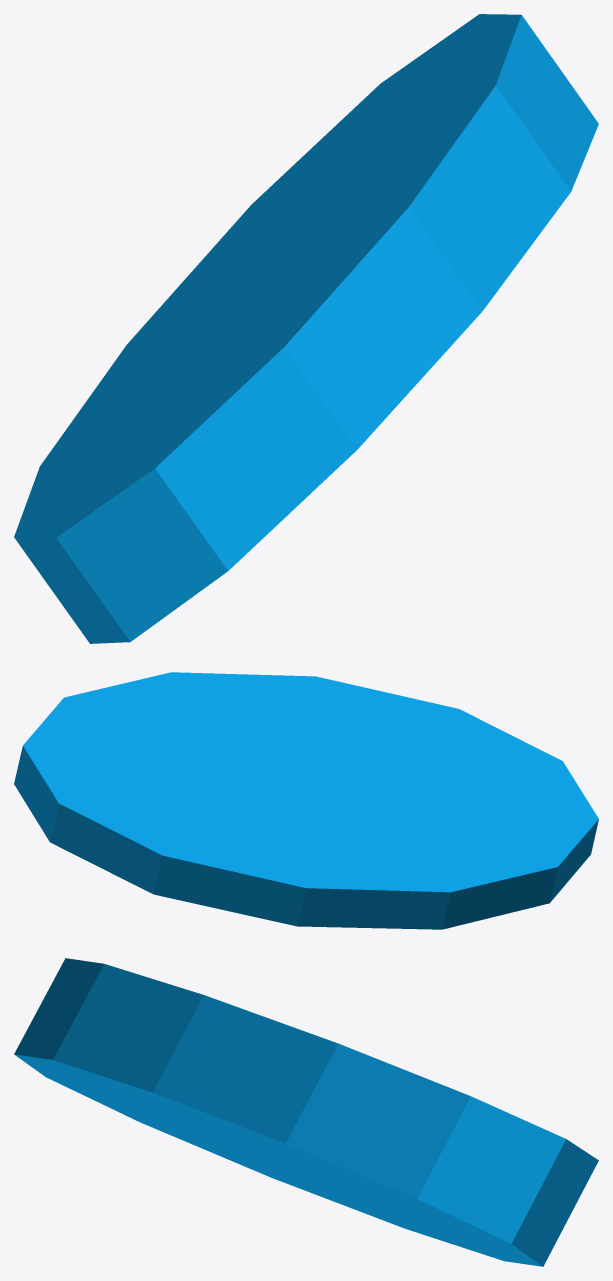
Rendered from astronaut_spawn_group373555577_lev4.glb.
3 views of the same model, one above another, from view 1: azimuth 30°, elevation 25°; view 2: azimuth 150°, elevation 25°; view 3: azimuth 270°, elevation 25° (orthographic). The views are drawn at different scales.
Visible parts, largest first — view 1: astronaut_spawn_group373555577_lev4; view 2: astronaut_spawn_group373555577_lev4; view 3: astronaut_spawn_group373555577_lev4.
Part boxes in pixels (x1,y1,x2,y2): astronaut_spawn_group373555577_lev4: [14, 14, 598, 643]; astronaut_spawn_group373555577_lev4: [14, 672, 598, 929]; astronaut_spawn_group373555577_lev4: [14, 958, 598, 1266].
Size of the model in its own units: 0.2396 by 0.1109 by 0.1906.
